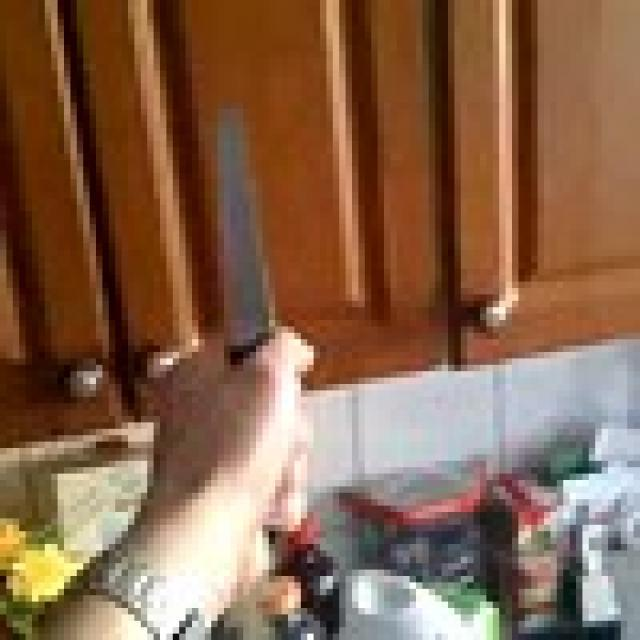Knife: (205, 109, 288, 365)
